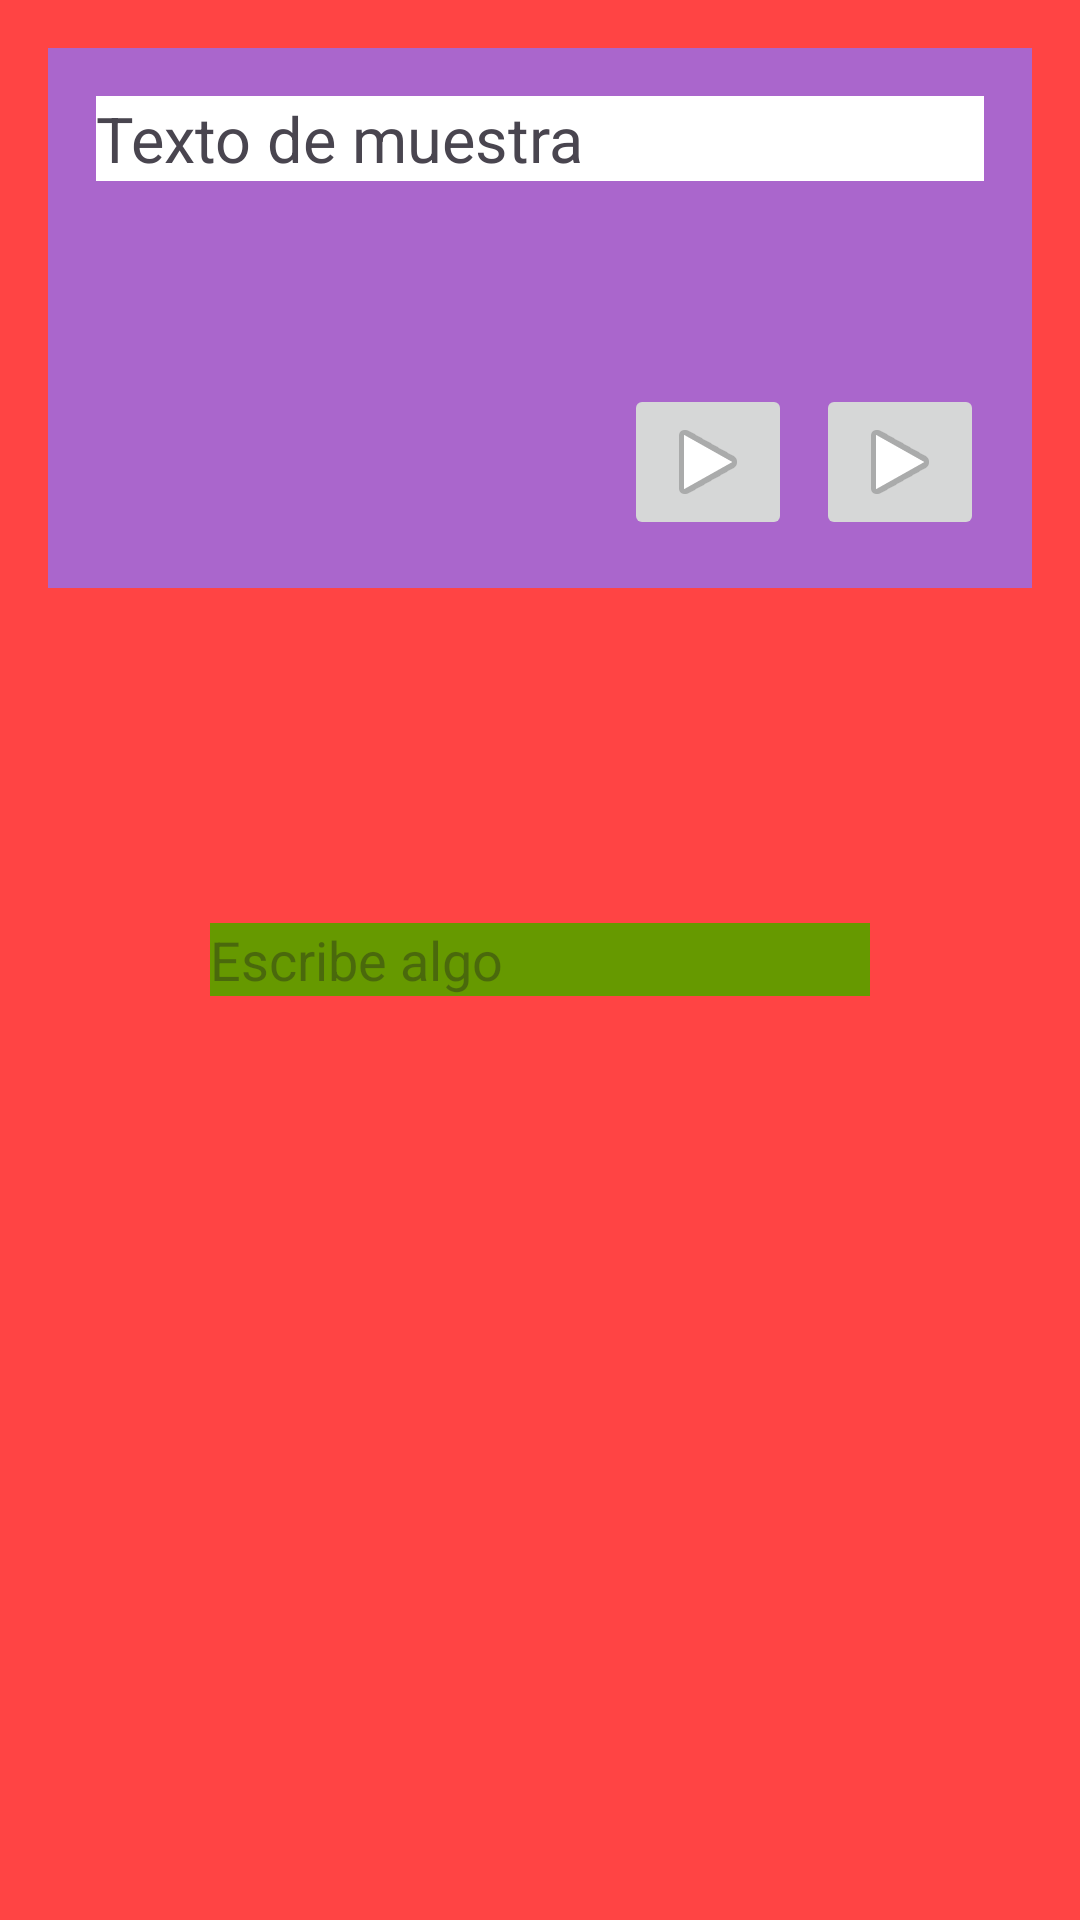

Point at icon controls on the screen. Image size 1080*1920, points as (x,y).
play: (708,462), (900,462)
